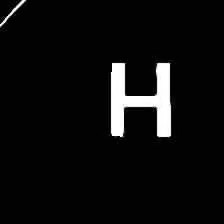LTR_H: (99, 53, 183, 149)
